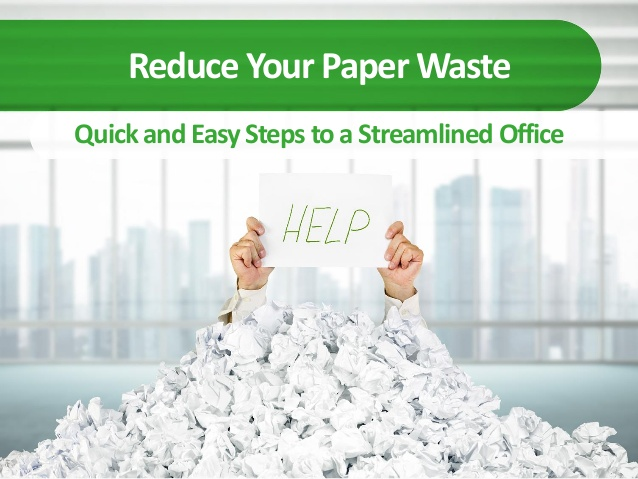paper: (232, 160, 458, 286)
